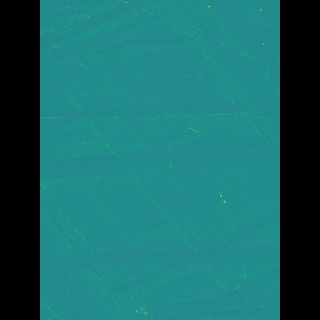Loch: (91, 32, 242, 294)
